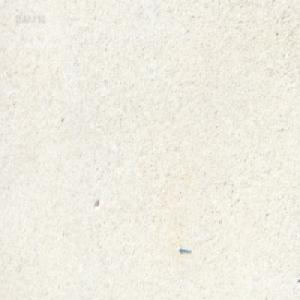Nail: (178, 244, 191, 252)
